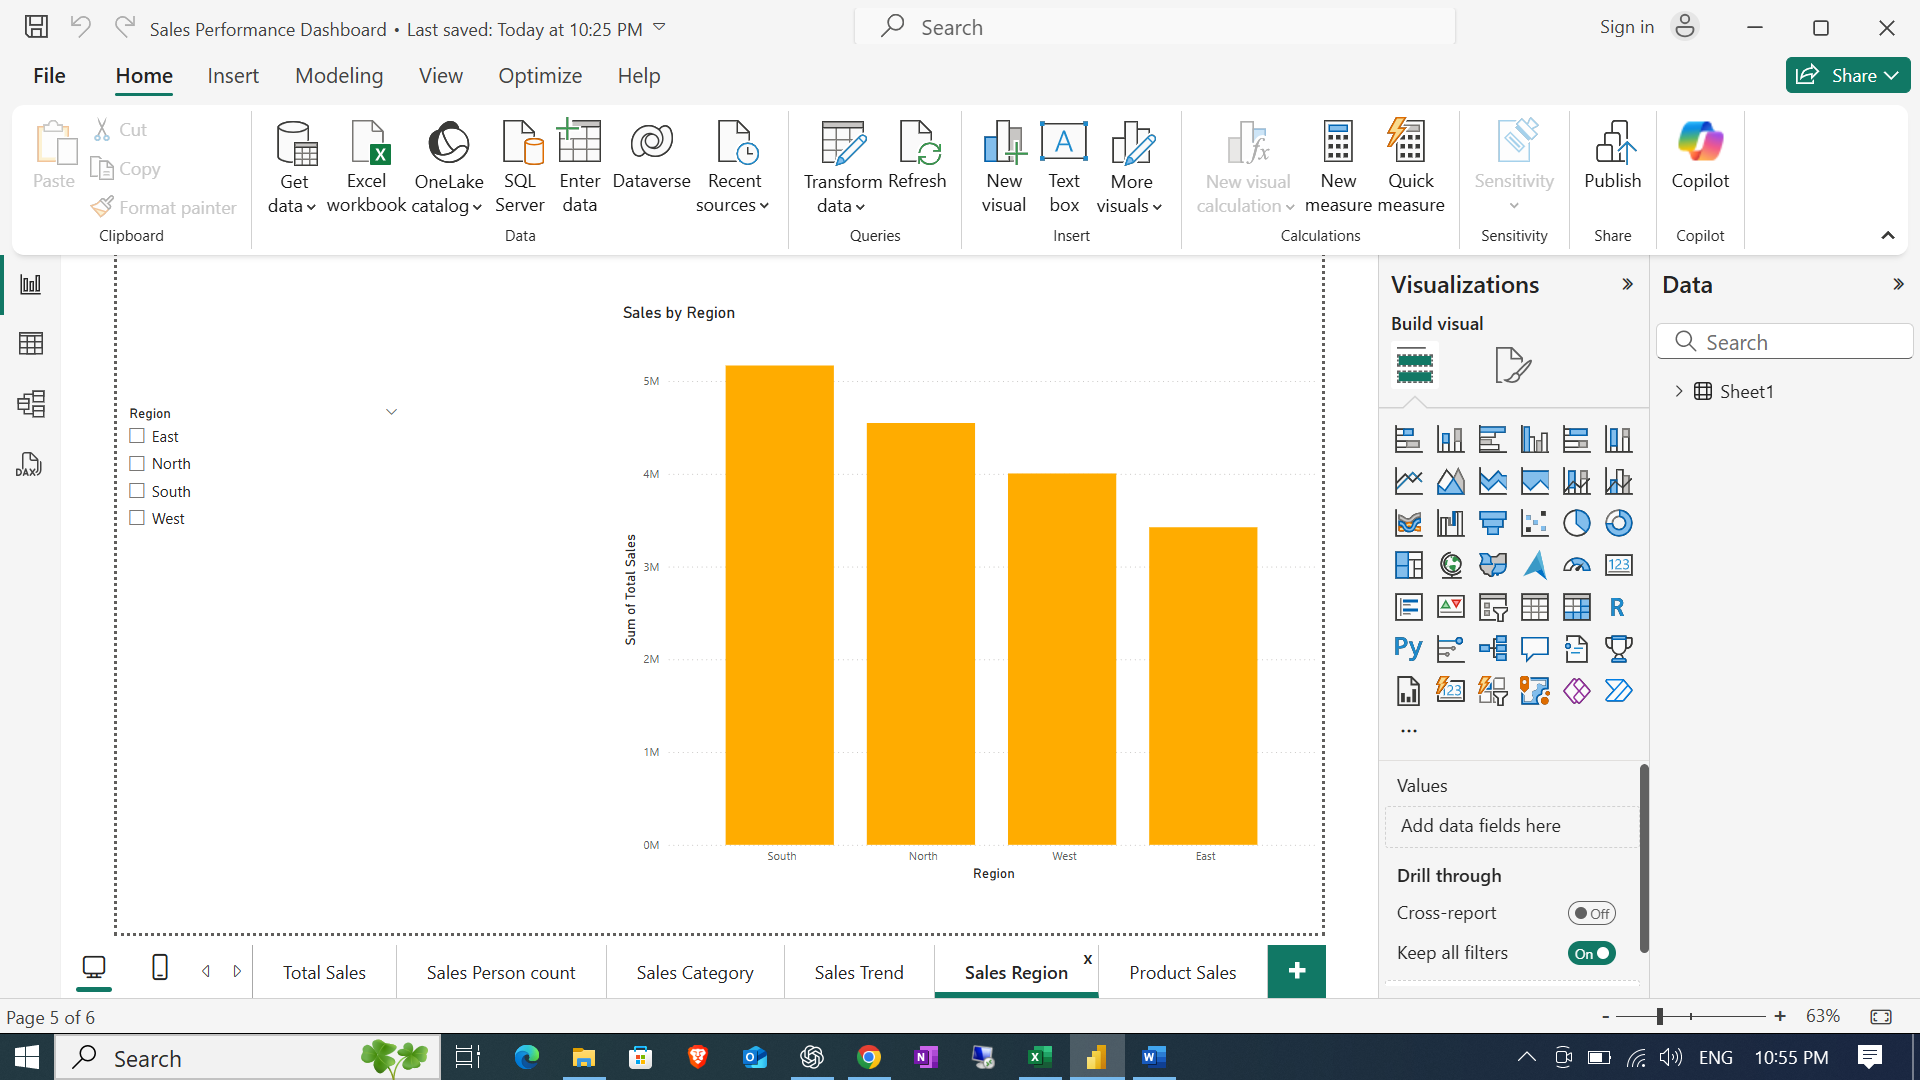

This screenshot's page, from the dashboard's own definition file:
{"tool":"powerbi","page":{"name":"Sales Region","canvas":[1280,720],"ordinal":4},"visuals":[{"type":"clusteredColumnChart","title":"Sales by Region ","fields":{"Category":["Sheet1.Region"],"Y":["Sum(Sheet1.Total Sales)"]},"box":[532,51,748.7,618.1],"z":0},{"type":"slicer","fields":{"Values":["Sheet1.Region"]},"box":[0,154.5,310.6,148.1],"z":1000}]}

Visuals, with their boxes on the page's 1280x720 design canvas (x1, y1, x2, y2). These are canvas units, not pixel positions in the 1920x1080 screenshot, which may show the page scaled, cropped or inside an application window:
"Sales by Region " clusteredColumnChart: l=532, t=51, r=1281, b=669
slicer - Sheet1.Region: l=0, t=154, r=311, b=303
